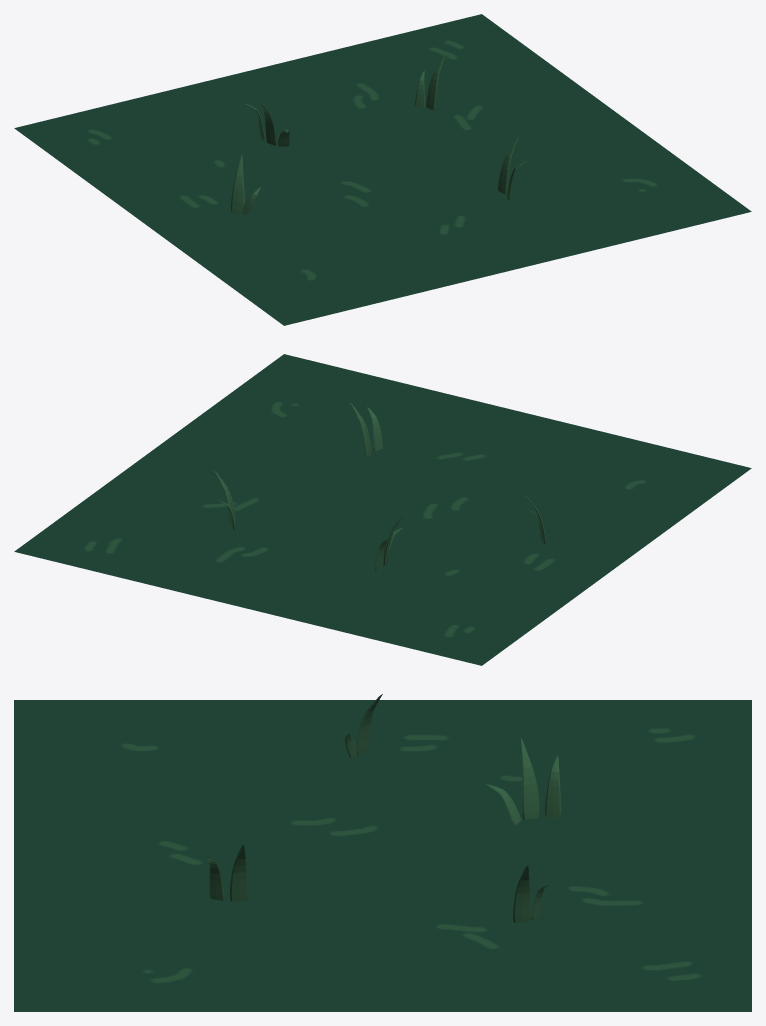
The model's file is Ground_Tiles.fbx.
3 views of the same model, one above another, from view 1: azimuth 30°, elevation 25°; view 2: azimuth 150°, elevation 25°; view 3: azimuth 270°, elevation 25° (orthographic). The views are drawn at different scales.
Visible parts, largest first — view 1: Plane.001, PastoUnificado.002, TresPastos.002, DosPastos.004, DosPastos.005; view 2: Plane.001, DosPastos.005; view 3: Plane.001, TresPastos.002, DosPastos.005, DosPastos.004, PastoUnificado.002.
Part boxes in pixels (bbox=[...]): Plane.001: bbox=[14, 14, 751, 325]; PastoUnificado.002: bbox=[231, 154, 260, 214]; TresPastos.002: bbox=[245, 100, 289, 146]; DosPastos.004: bbox=[415, 53, 446, 110]; DosPastos.005: bbox=[498, 137, 527, 200]; Plane.001: bbox=[14, 354, 751, 665]; DosPastos.005: bbox=[349, 402, 382, 457]; Plane.001: bbox=[14, 700, 751, 1011]; TresPastos.002: bbox=[485, 738, 561, 825]; DosPastos.005: bbox=[207, 844, 248, 901]; DosPastos.004: bbox=[513, 865, 550, 922]; PastoUnificado.002: bbox=[345, 694, 382, 758].
Size of the model in its own units: 200 by 22.26 by 200.
2 materials, 2 textured.
